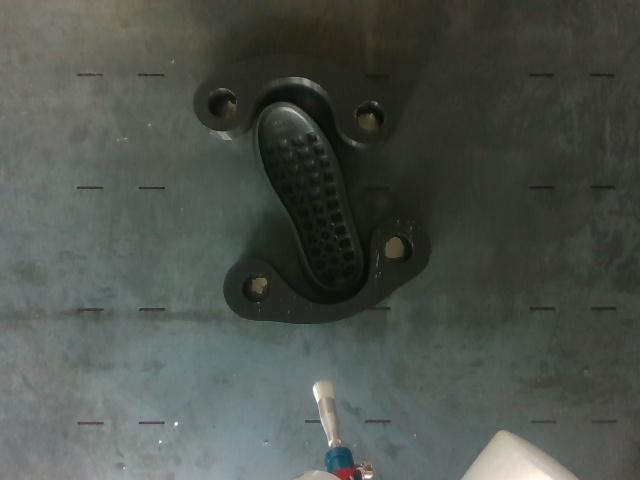shoes: (257, 104, 363, 291)
